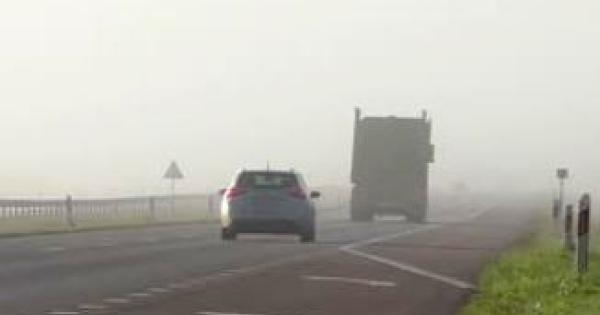car: (215, 168, 320, 241)
truck: (349, 104, 433, 224)
